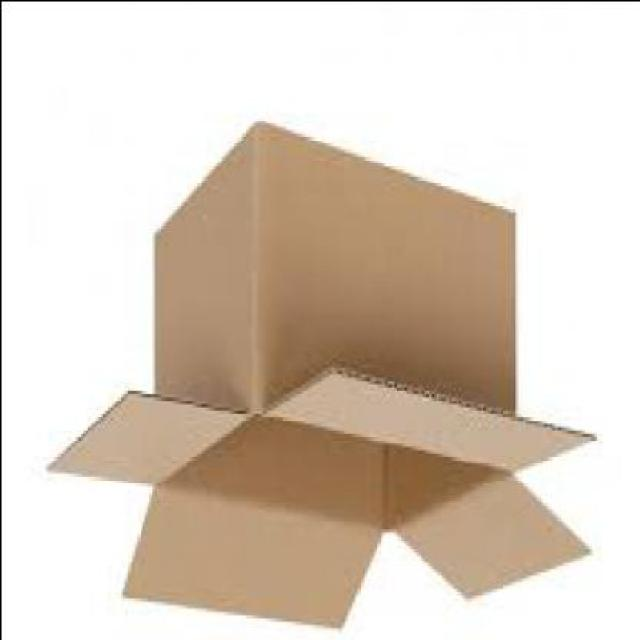CARDBOARD: (47, 122, 598, 630)
